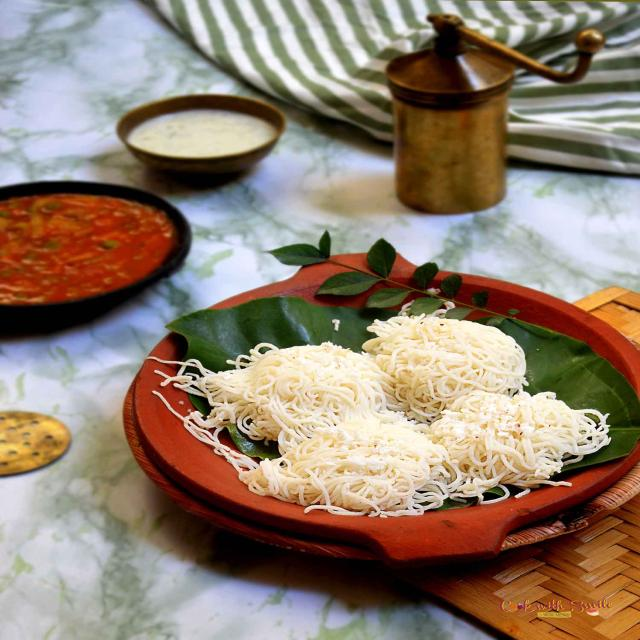IDIYAPPAM: (256, 414, 450, 513), (424, 393, 604, 491), (208, 346, 388, 439), (370, 315, 529, 418)
